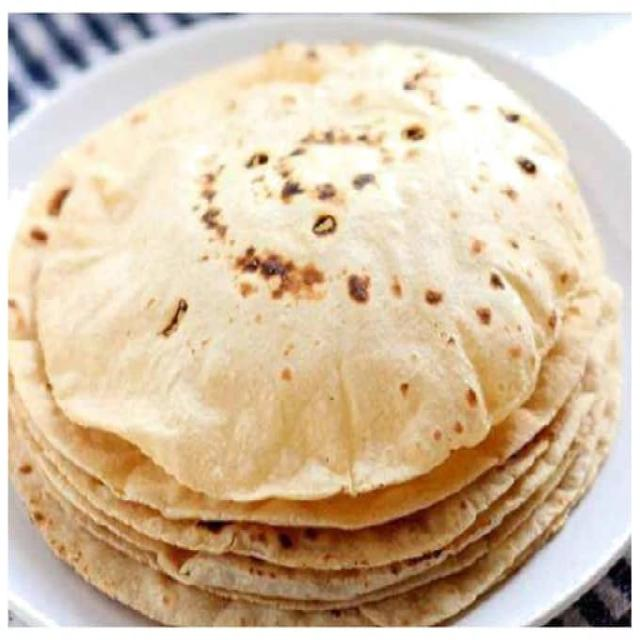chapathi: (3, 31, 621, 640)
